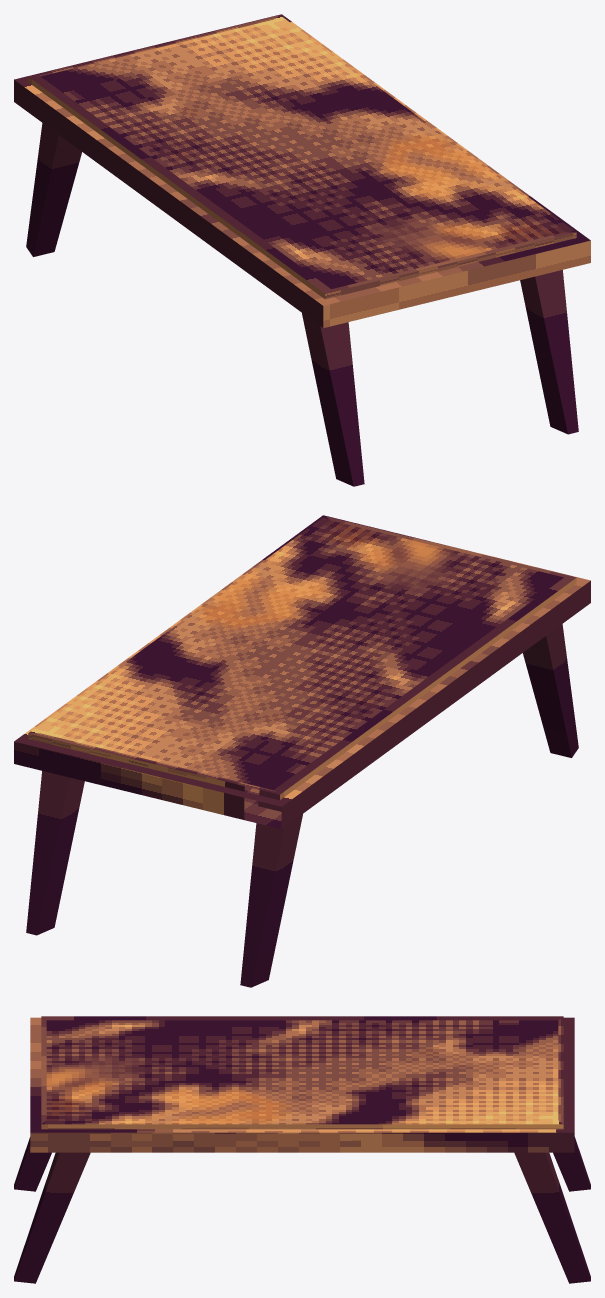
File: table.gltf
3 views of the same model, one above another, from view 1: azimuth 30°, elevation 25°; view 2: azimuth 150°, elevation 25°; view 3: azimuth 270°, elevation 25° (orthographic). The views are drawn at different scales.
Visible parts, largest first — view 1: top, left (×2), right; view 2: top, left (×2), right; view 3: top, right (×2), left (×2).
Part boxes in pixels (x1,y1,x2,y2): top: [14, 14, 590, 328]; left (×2): [26, 123, 364, 486]; right: [520, 270, 578, 434]; top: [14, 515, 590, 829]; left (×2): [240, 624, 578, 987]; right: [26, 771, 84, 935]; top: [30, 1016, 574, 1152]; right (×2): [14, 1152, 590, 1283]; left (×2): [14, 1137, 590, 1191].
Size of the model in its own units: 0.3125 by 0.2062 by 0.6625.
Materials: 1 (1 with a texture image).
